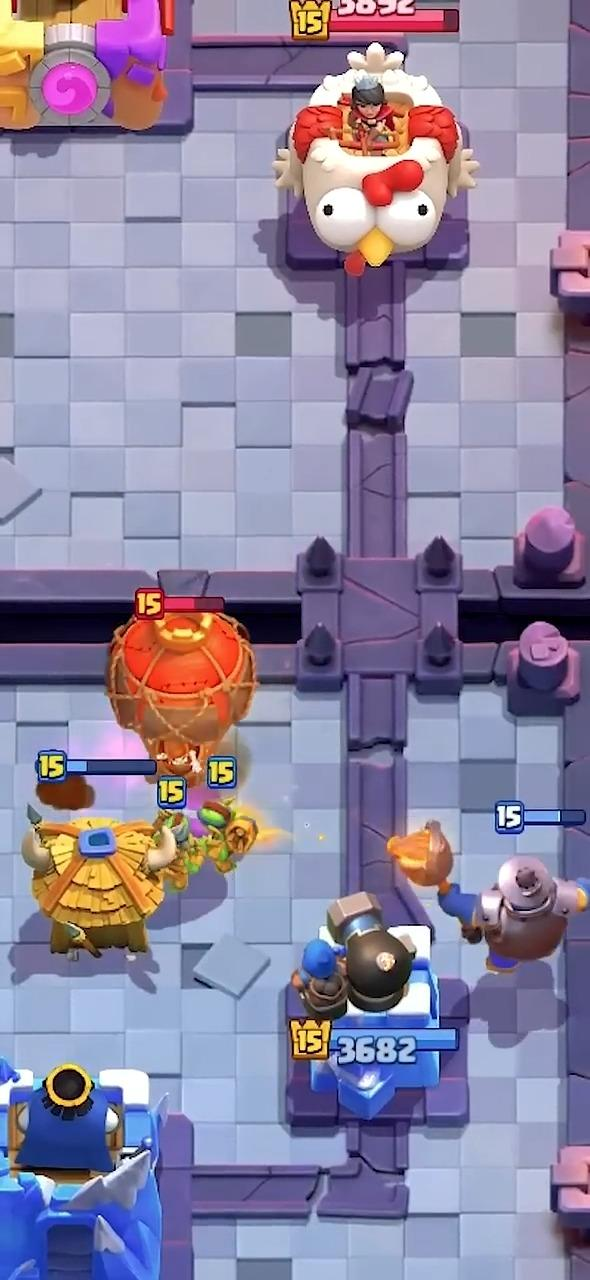baloon: (106, 606, 257, 780)
furnace: (388, 823, 589, 972)
goblin hut: (21, 815, 186, 957)
spear goblin: (154, 800, 257, 891)
